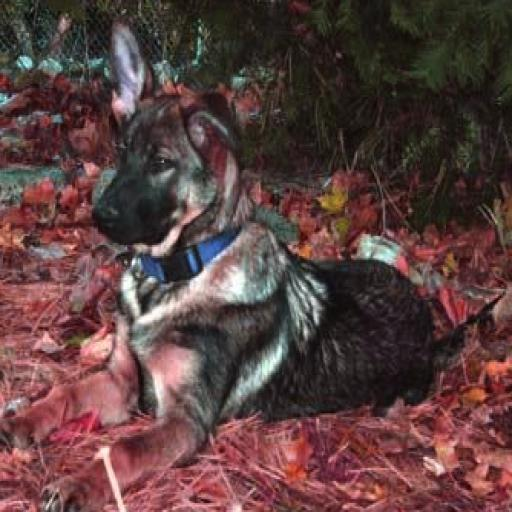dog_face: (95, 33, 238, 241)
